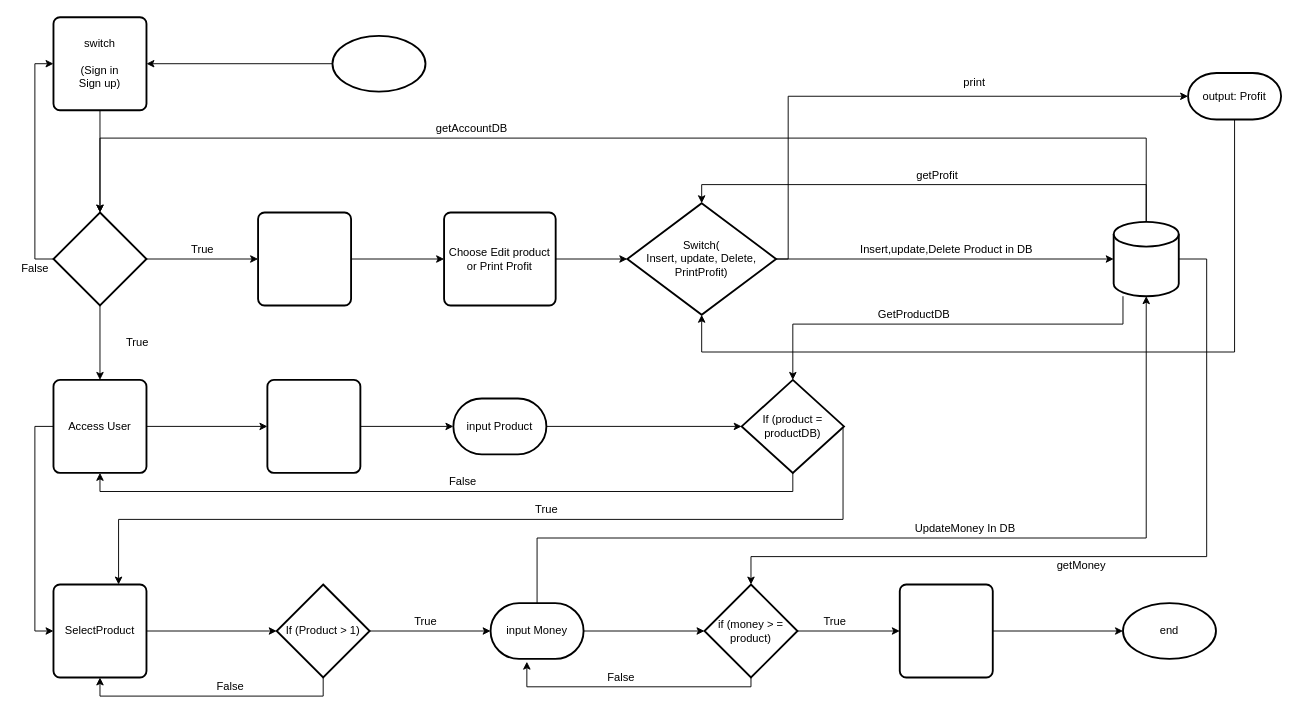
This 1297x720 diagram has some shape labels left out. The shapes that lost their labels are listed below. From the top down, each one's centre as x and y in pixels, then its label:
At (378,63): "start".
At (99,258): "if (account = AccountDB )".
At (304,258): "Access Admin".
At (1145,258): "Database".
At (313,426): "findProduct".
At (945,630): "getProduct".
